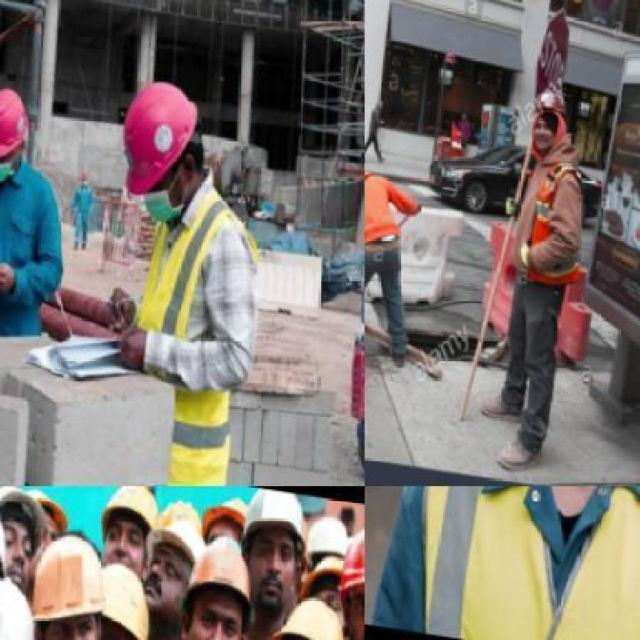Vest: (92, 177, 266, 485), (382, 486, 638, 639), (505, 154, 592, 288)
